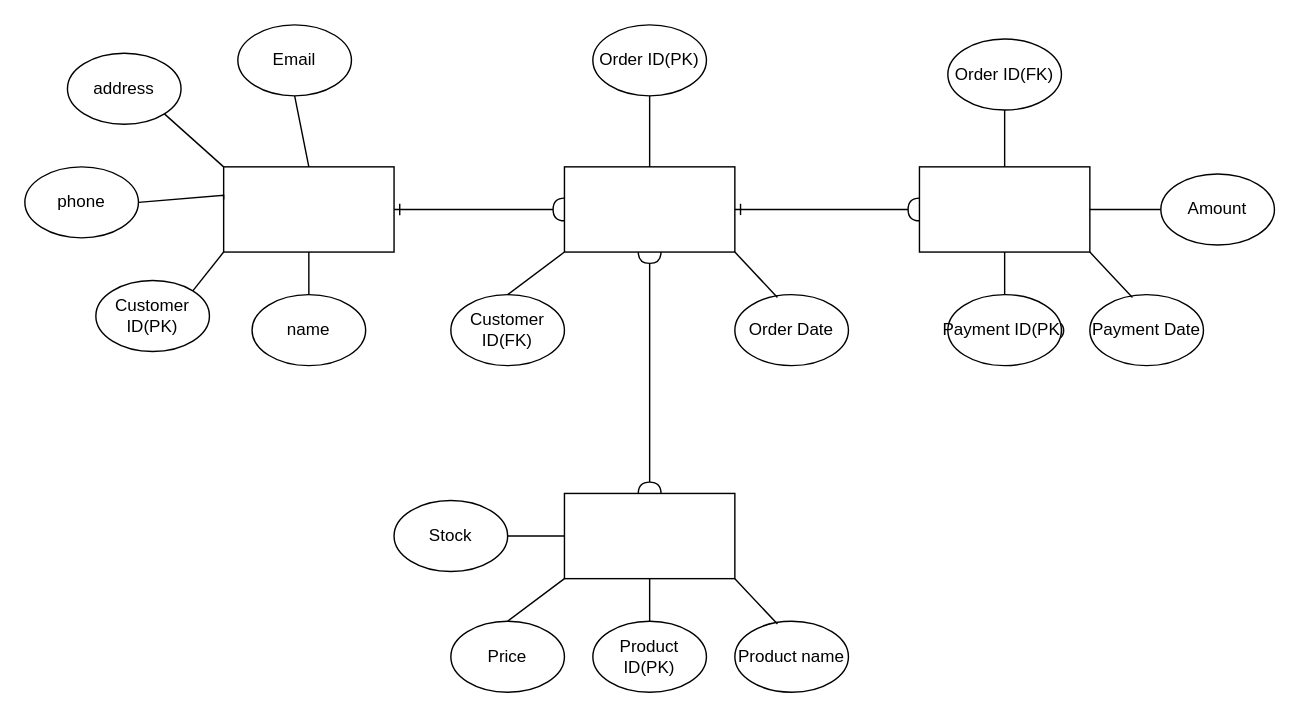
Some shapes in this 1299 by 717 pixel diagram are drawn without their labels. Here are the shapes that lost their labels. From the top down, the box of each, then its label:
(222, 165, 394, 252): Customer
(563, 165, 735, 252): Order
(918, 165, 1090, 252): Payment
(563, 492, 735, 579): Product
